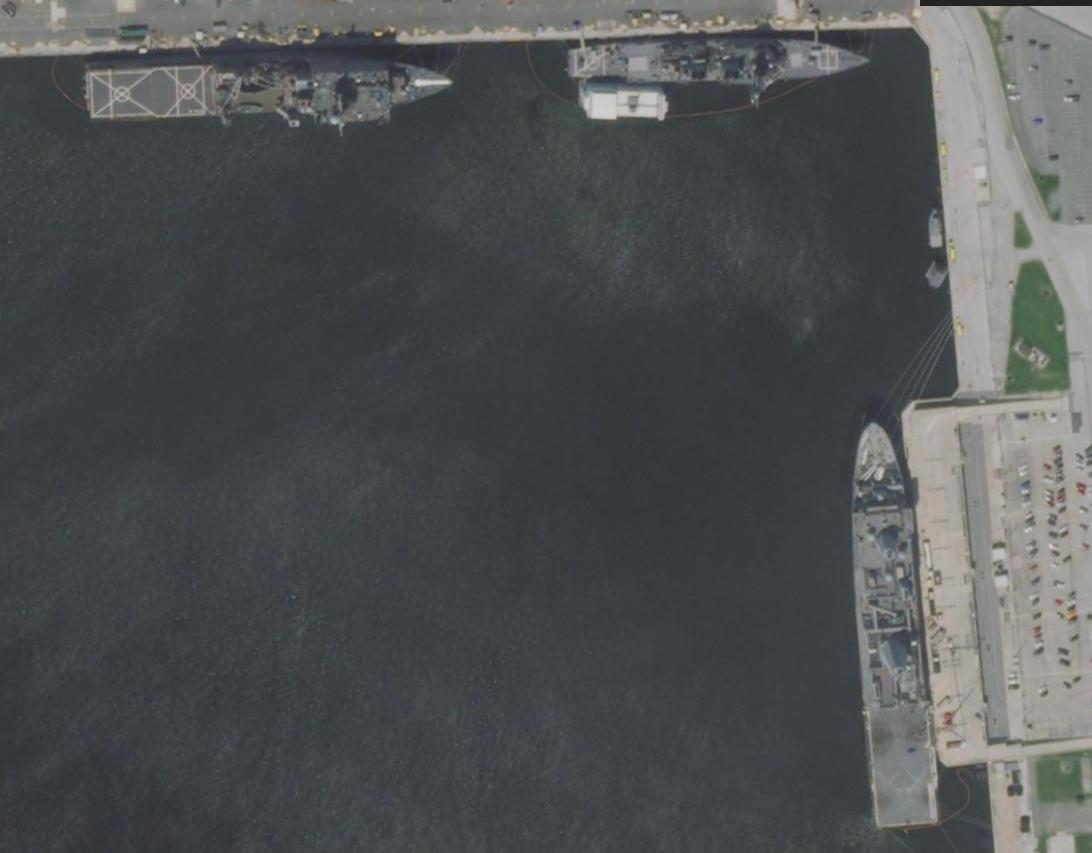amphiby: (835, 399, 954, 840), (66, 45, 473, 140)
fregate: (553, 23, 889, 95)
